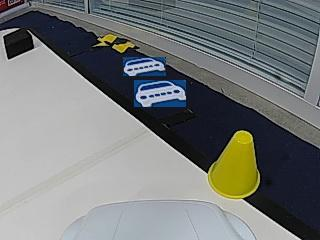block: (3, 29, 33, 59)
cone: (208, 130, 260, 199)
